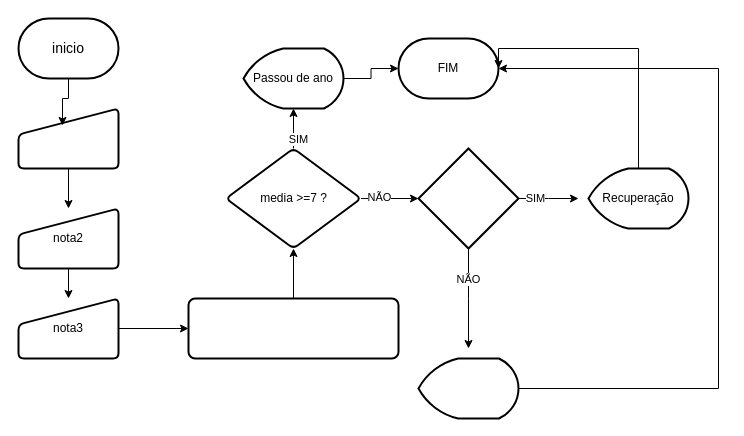
The diagram is 744 pixels wide and 436 high, and some of its shapes have lost their labels. The shapes that lost their labels are listed below. From the top down, each one's centre as x and y in pixels, then its label:
At (68,138): "nota1".
At (468,198): "media >= 5 e media <7".
At (293,328): "media = (nota1+nota2+nota3)/3".
At (468,388): "reprovou".
